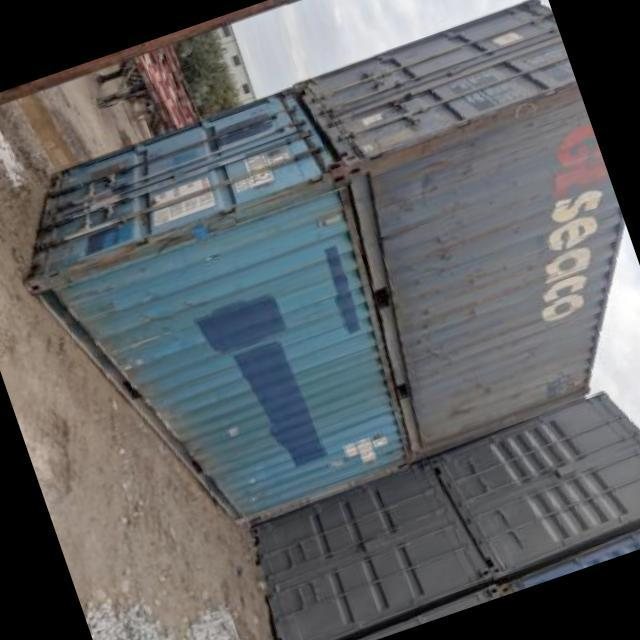rust: (42, 165, 343, 300), (122, 347, 183, 449)
